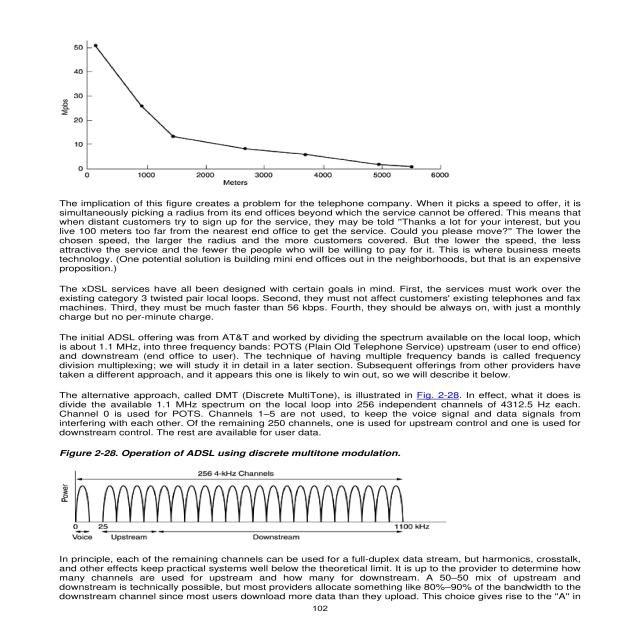diagram: (57, 24, 496, 190), (26, 444, 467, 544)
